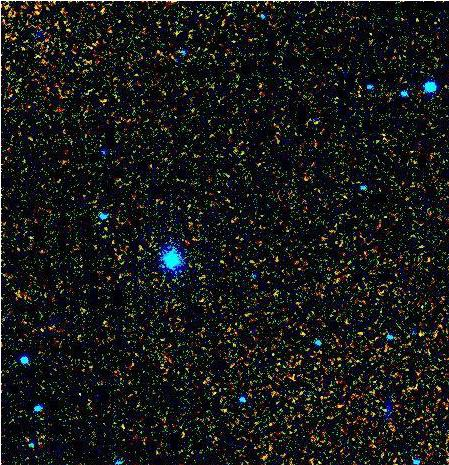star: (199, 380, 229, 410)
